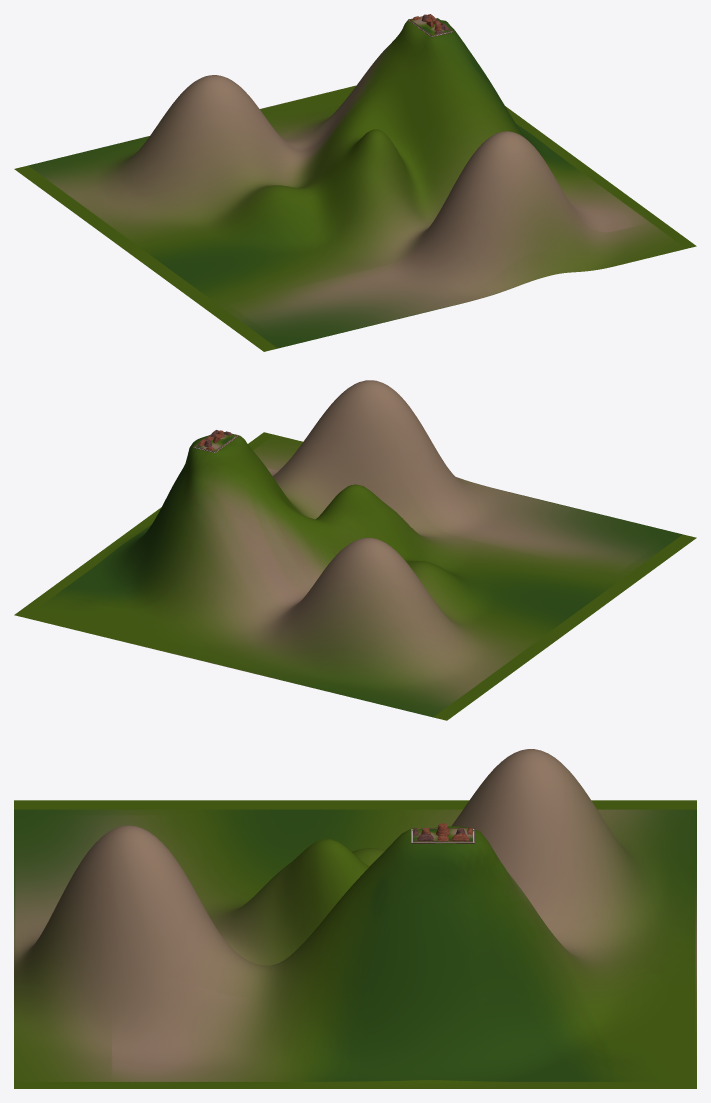
Rendered from PlataformaYacatas.fbx.
The picture shows the model from 3 angles, top to bottom: view 1: azimuth 30°, elevation 25°; view 2: azimuth 150°, elevation 25°; view 3: azimuth 270°, elevation 25°; orthographic projection. The views are drawn at different scales.
Parts seen in each view (by area): view 1: Plane; view 2: Plane; view 3: Plane.
Boxes of the visible parts, x1=… form: Plane: x1=14, y1=18, x2=696, y2=351; Plane: x1=14, y1=380, x2=696, y2=720; Plane: x1=14, y1=749, x2=696, y2=1088.
Bounding box in the file's own units: 27384 × 8398 × 27384.
4 materials, 3 textured.
